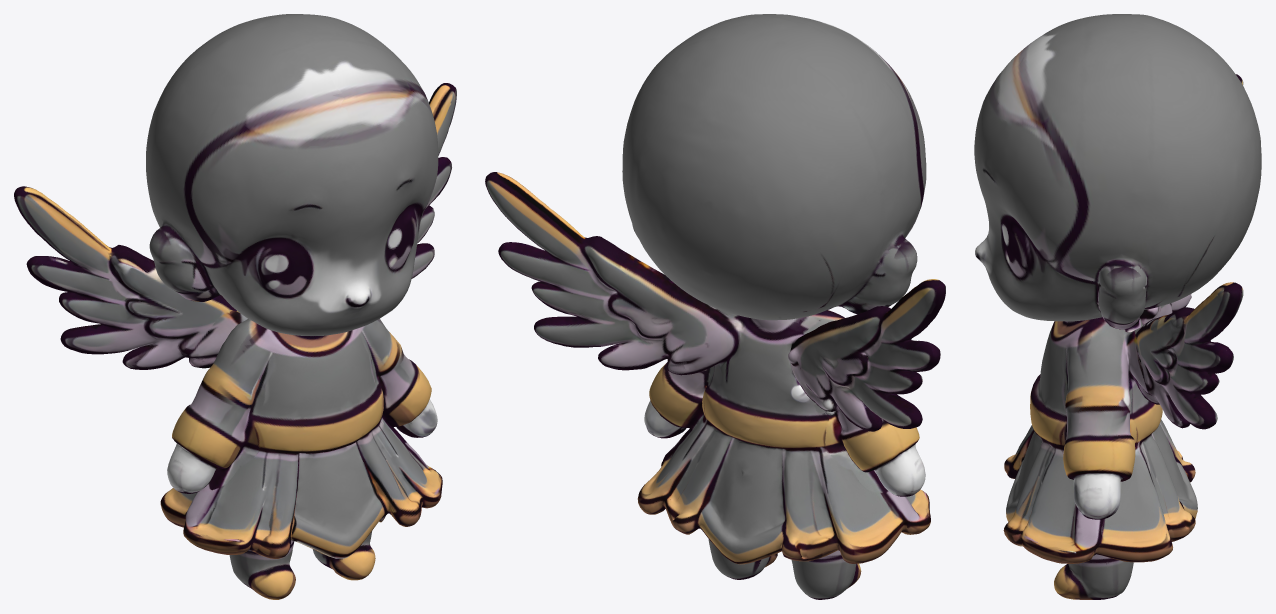
File: sora.glb
3 views of the same model, side by side, from view 1: azimuth 30°, elevation 25°; view 2: azimuth 150°, elevation 25°; view 3: azimuth 270°, elevation 25° (orthographic). The views are drawn at different scales.
Parts seen in each view (by area): view 1: geometry_0; view 2: geometry_0; view 3: geometry_0.
Part boxes in pixels (bbox=[...]): geometry_0: bbox=[14, 14, 456, 599]; geometry_0: bbox=[485, 14, 945, 599]; geometry_0: bbox=[974, 14, 1261, 599].
Size of the model in its own units: 1.59 by 1.87 by 0.8888.
Materials: 1 (1 with a texture image).
